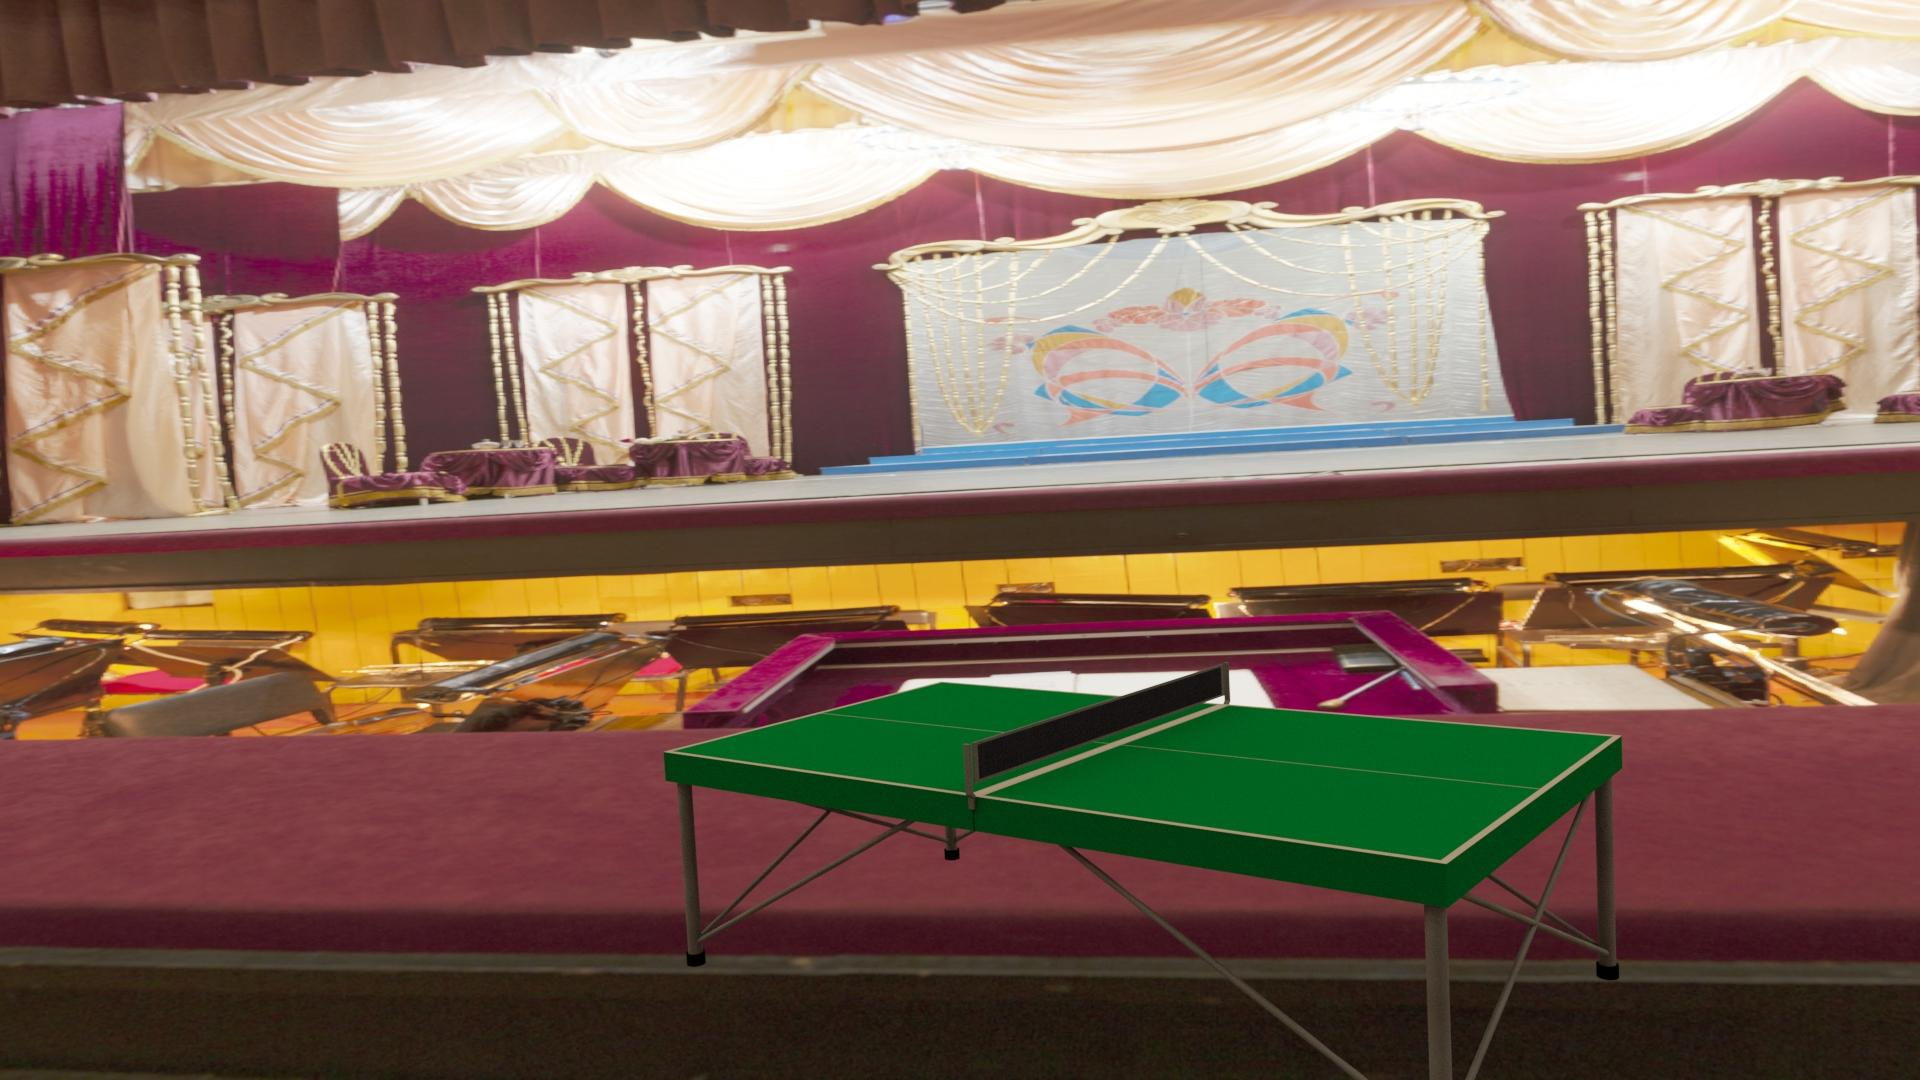table: (671, 682, 1613, 860)
